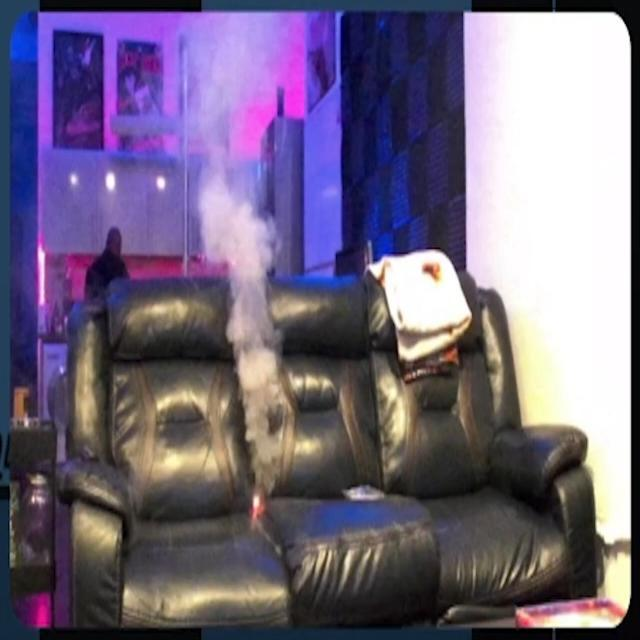Fire: (252, 494, 260, 521)
Smoke: (192, 25, 300, 475)
